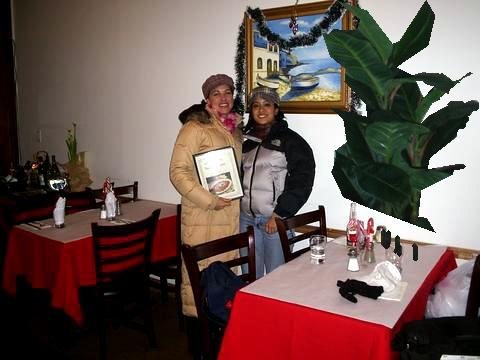tampered: (323, 1, 479, 261)
